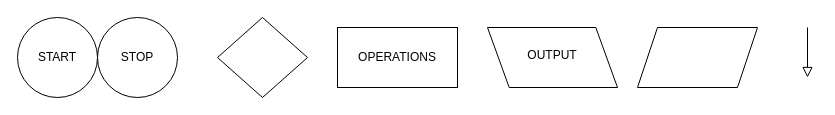
Some shapes in this 835 by 115 pixel diagram are drawn without their labels. The box of each missing label's shape, as (x1, y1, x2, y2) in pixels:
IF: (216, 16, 308, 98)
INPUT: (636, 26, 758, 88)
